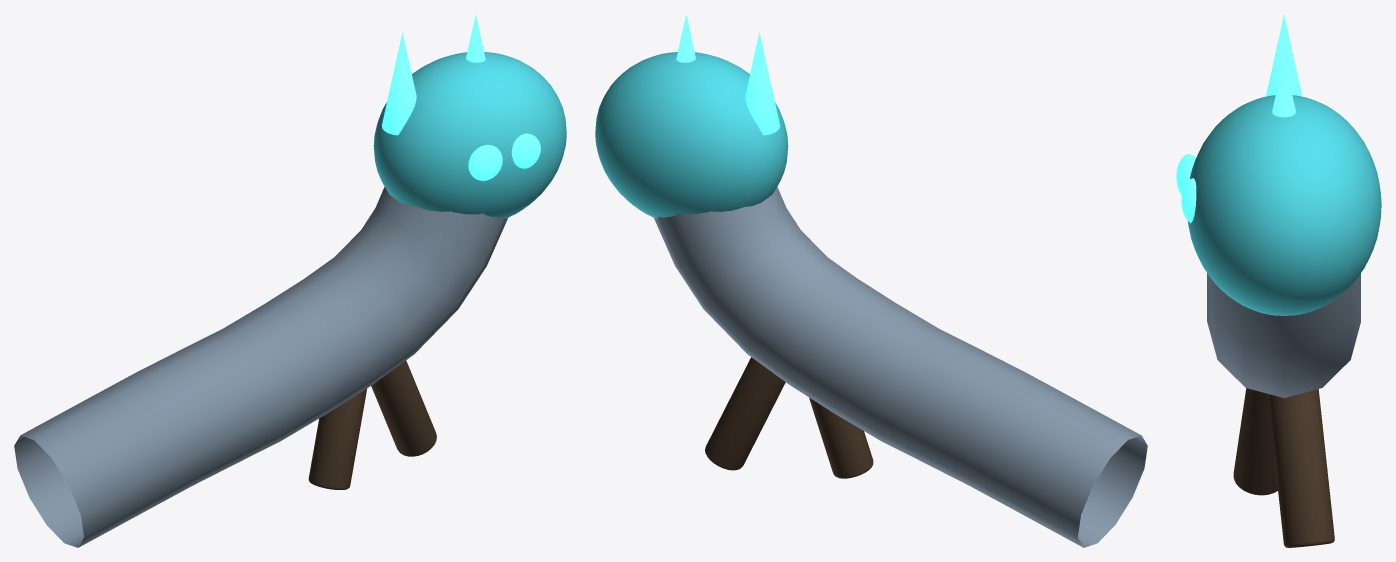
File: dragon_v4.glb
3 views of the same model, side by side, from view 1: azimuth 30°, elevation 25°; view 2: azimuth 150°, elevation 25°; view 3: azimuth 270°, elevation 25° (orthographic). The views are drawn at different scales.
Parts seen in each view (by area): view 1: LINDWORM_BODY_PRIMARY, LINDWORM_HEAD_ACCENT, LINDWORM_ARM_SECONDARY, LINDWORM_ARM_SECONDARY.001, LINDWORM_HORN_EMISSIVE, EYE_EMISSIVE, EYE_EMISSIVE.001; view 2: LINDWORM_BODY_PRIMARY, LINDWORM_HEAD_ACCENT, LINDWORM_ARM_SECONDARY.001, LINDWORM_ARM_SECONDARY, LINDWORM_HORN_EMISSIVE; view 3: LINDWORM_HEAD_ACCENT, LINDWORM_BODY_PRIMARY, LINDWORM_ARM_SECONDARY.001, LINDWORM_ARM_SECONDARY, LINDWORM_HORN_EMISSIVE, LINDWORM_HORN_EMISSIVE.001, EYE_EMISSIVE.001, EYE_EMISSIVE.
Boxes of the visible parts, left/top/right/bottom form: LINDWORM_BODY_PRIMARY: left=14, top=187, right=507, bottom=547; LINDWORM_HEAD_ACCENT: left=373, top=52, right=566, bottom=218; LINDWORM_ARM_SECONDARY: left=308, top=388, right=367, bottom=489; LINDWORM_ARM_SECONDARY.001: left=371, top=360, right=436, bottom=456; LINDWORM_HORN_EMISSIVE: left=382, top=32, right=416, bottom=135; EYE_EMISSIVE: left=468, top=144, right=502, bottom=180; EYE_EMISSIVE.001: left=511, top=133, right=540, bottom=168; LINDWORM_BODY_PRIMARY: left=654, top=187, right=1147, bottom=547; LINDWORM_HEAD_ACCENT: left=595, top=52, right=788, bottom=218; LINDWORM_ARM_SECONDARY.001: left=705, top=357, right=785, bottom=470; LINDWORM_ARM_SECONDARY: left=809, top=397, right=873, bottom=478; LINDWORM_HORN_EMISSIVE: left=745, top=32, right=779, bottom=135; LINDWORM_HEAD_ACCENT: left=1188, top=95, right=1381, bottom=315; LINDWORM_BODY_PRIMARY: left=1207, top=273, right=1360, bottom=397; LINDWORM_ARM_SECONDARY.001: left=1267, top=389, right=1334, bottom=547; LINDWORM_ARM_SECONDARY: left=1233, top=388, right=1277, bottom=495; LINDWORM_HORN_EMISSIVE: left=1266, top=14, right=1302, bottom=96; LINDWORM_HORN_EMISSIVE.001: left=1272, top=58, right=1295, bottom=117; EYE_EMISSIVE.001: left=1181, top=178, right=1196, bottom=223; EYE_EMISSIVE: left=1176, top=154, right=1195, bottom=195.
Size of the model in its own units: 2.86 by 2.26 by 0.8.
